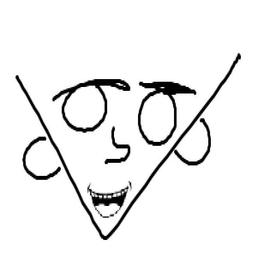ear: (18, 133, 66, 181), (179, 114, 214, 171)
empty_eye: (135, 84, 179, 148), (58, 81, 110, 135)
nose: (99, 126, 133, 174)
open_mouth: (83, 180, 136, 222)
